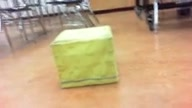cube: (50, 24, 119, 88)
